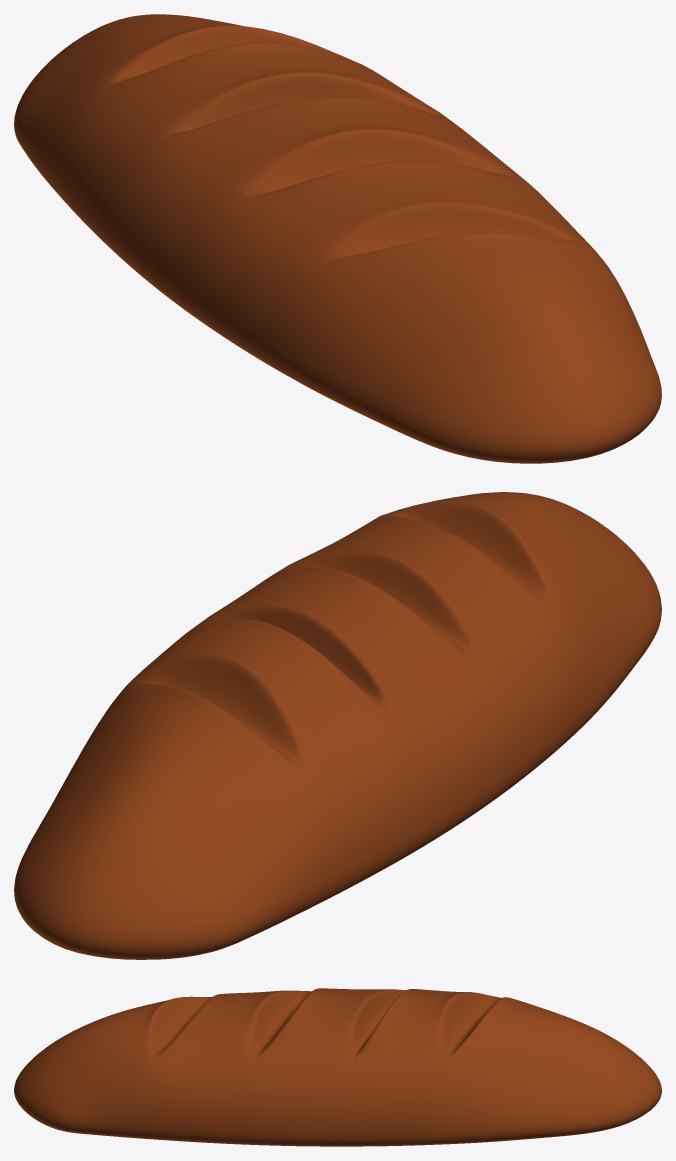
File: bread.fbx
3 renders of one model, top to bottom at view 1: azimuth 30°, elevation 25°; view 2: azimuth 150°, elevation 25°; view 3: azimuth 270°, elevation 25°, orthographic. The views are drawn at different scales.
Parts seen in each view (by area): view 1: Box005; view 2: Box005; view 3: Box005.
Part boxes in pixels (bbox=[...]): Box005: bbox=[14, 14, 661, 463]; Box005: bbox=[14, 492, 661, 959]; Box005: bbox=[14, 988, 661, 1146].
Size of the model in its own units: 121 by 61.9 by 330.
